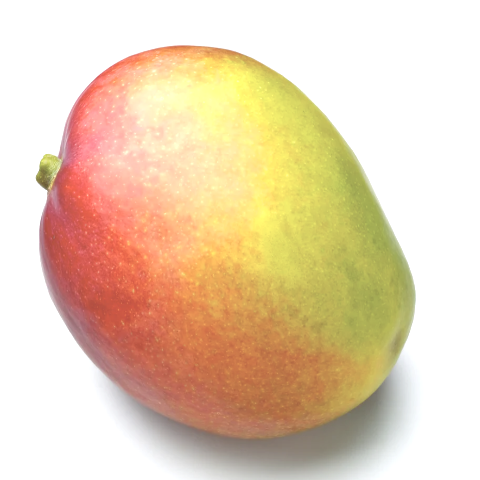mango: (2, 15, 449, 457)
